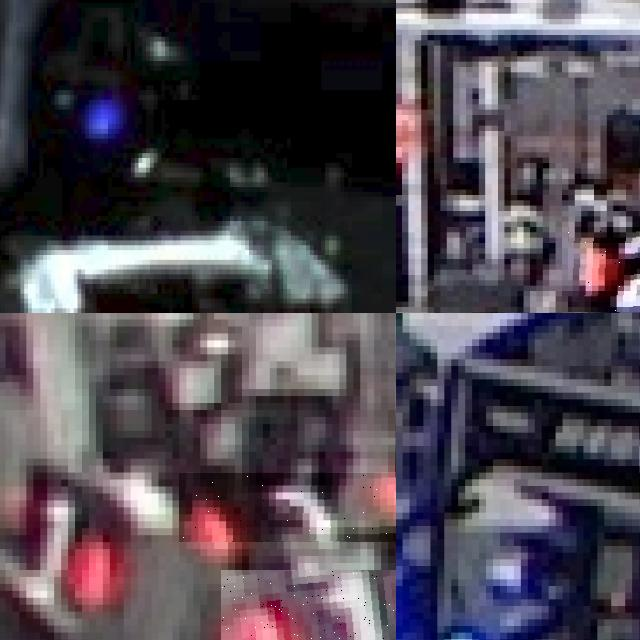R1: (0, 465, 123, 618), (179, 472, 396, 542), (221, 569, 396, 640)
R2: (568, 226, 640, 312)
